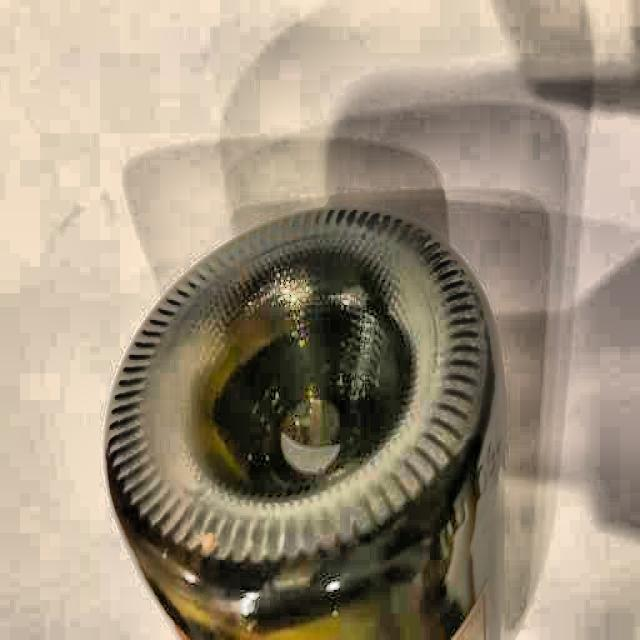glass: (101, 199, 521, 640)
